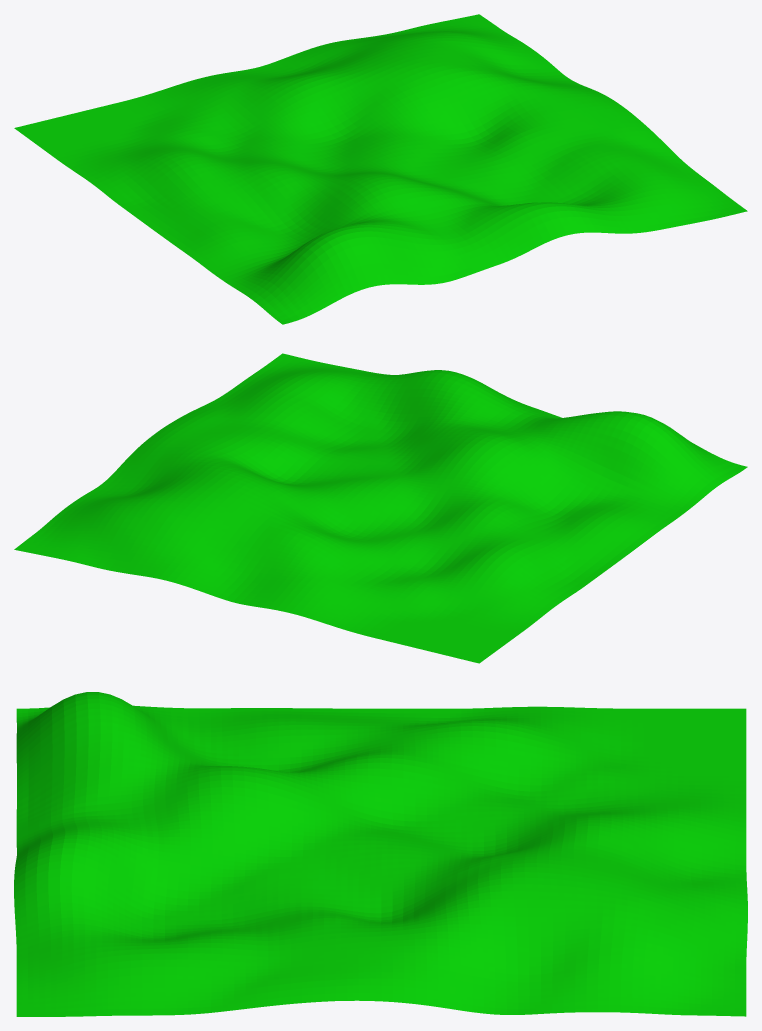
The model's file is hills.glb.
3 renders of one model, top to bottom at view 1: azimuth 30°, elevation 25°; view 2: azimuth 150°, elevation 25°; view 3: azimuth 270°, elevation 25°, orthographic. The views are drawn at different scales.
Visible parts, largest first — view 1: Plane; view 2: Plane; view 3: Plane.
Part boxes in pixels (x1=…): Plane: x1=14, y1=14, x2=747, y2=324; Plane: x1=14, y1=353, x2=747, y2=663; Plane: x1=14, y1=692, x2=747, y2=1016.
Size of the model in its own units: 20.05 by 2.03 by 20.12.
Materials: 1 (1 with a texture image).
